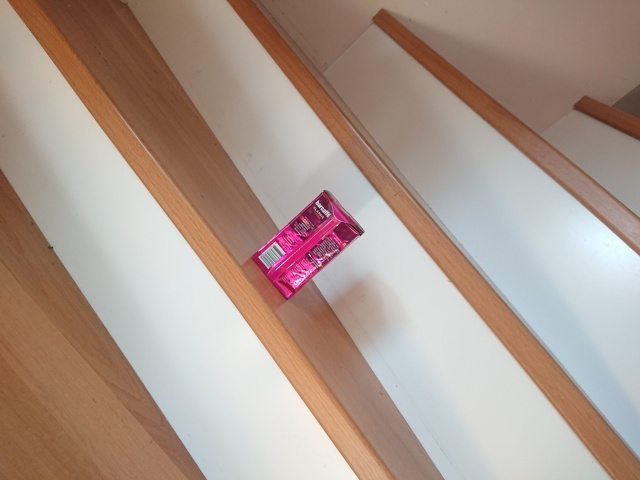Barcaffe Classic Original 225g: (249, 187, 367, 302)
